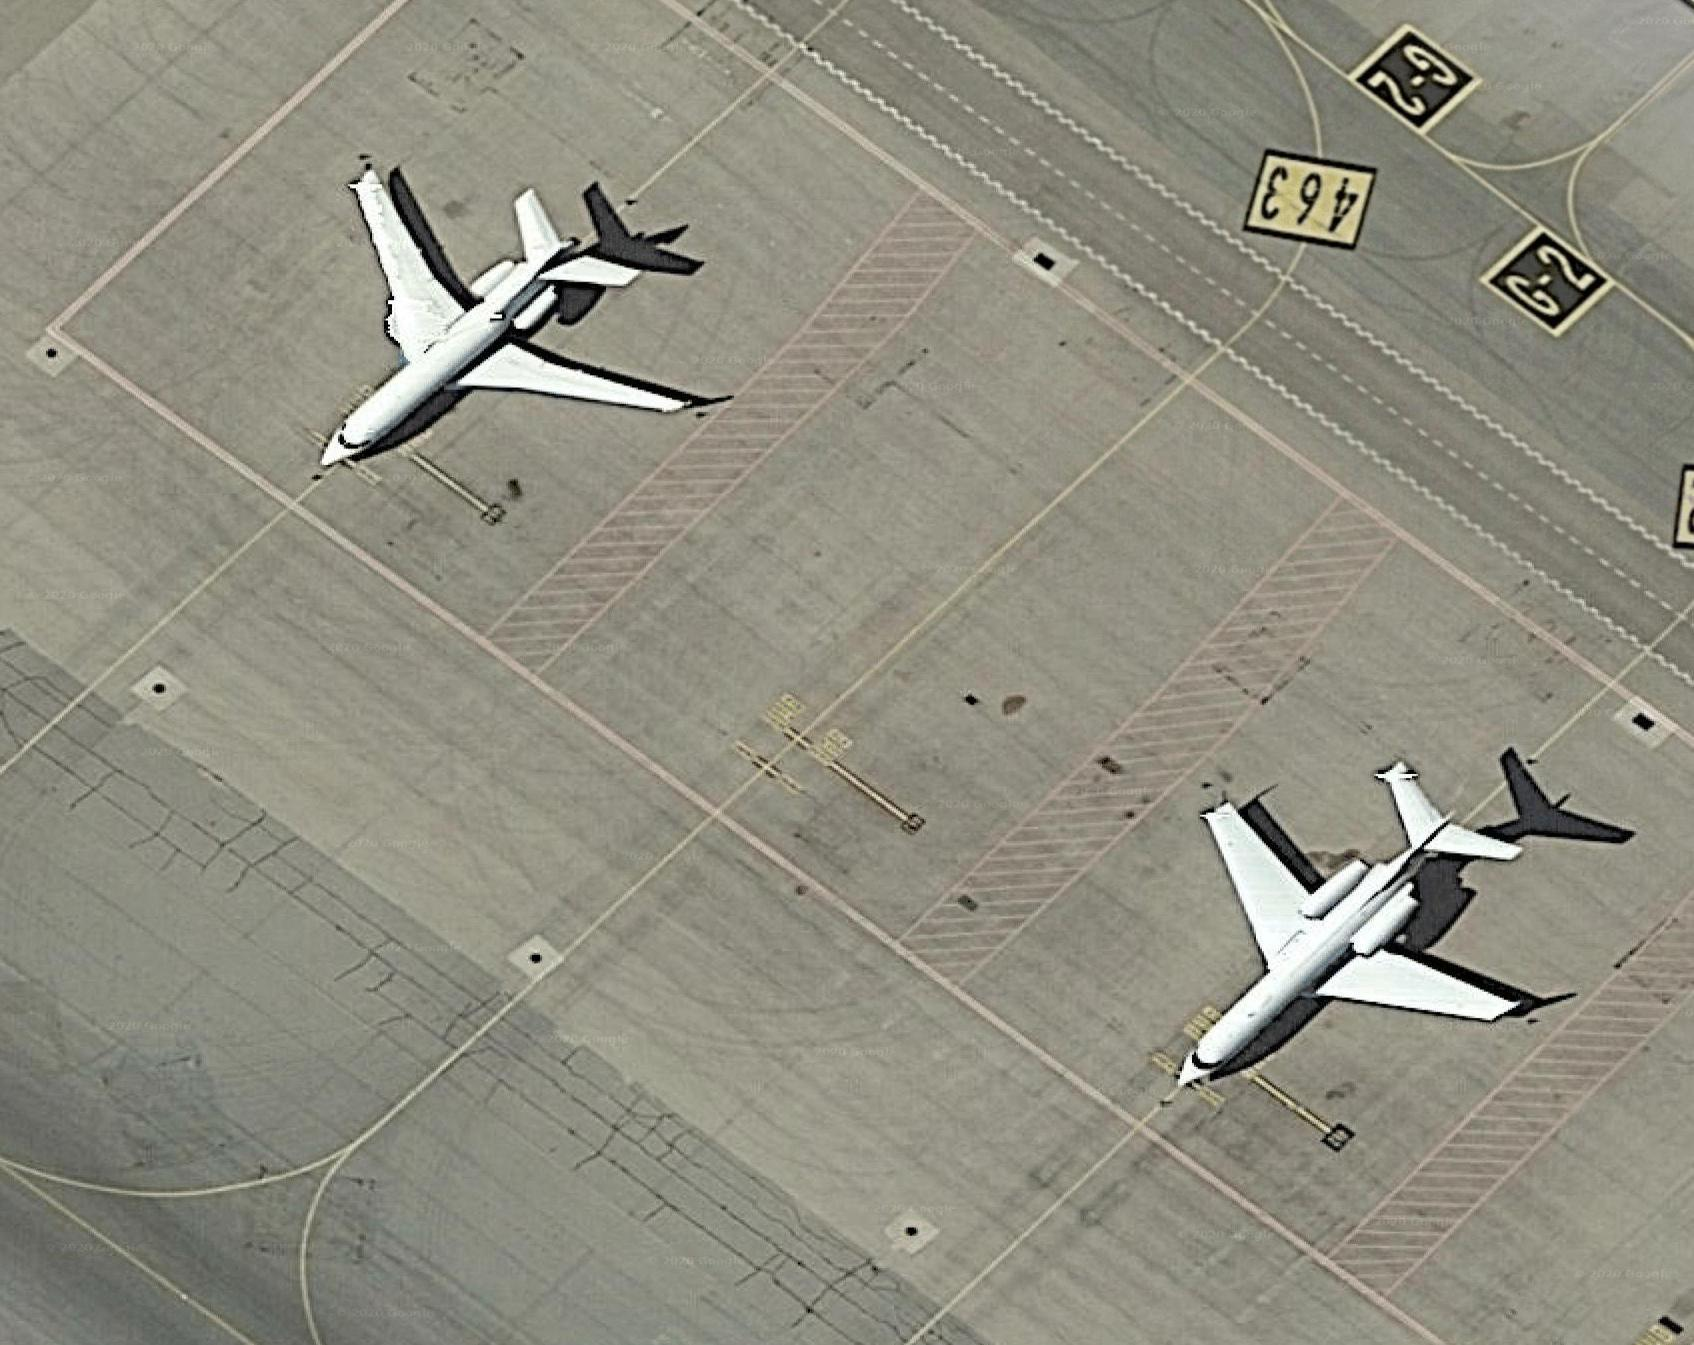plane: (1042, 650, 1627, 1212), (202, 87, 766, 602)
